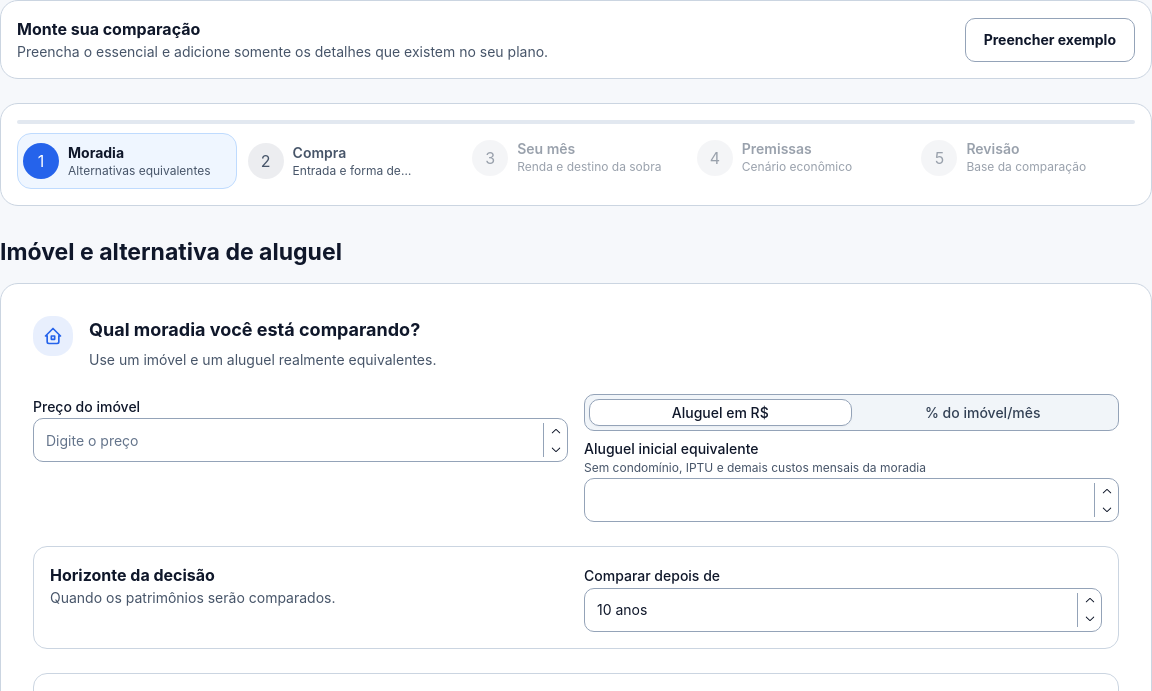
ComparisonJourney › asks before replacing a draft with the example
Type "450000" into the field labelled "Preço do imóvel" at x=300, y=440, box [33,418,568,462]
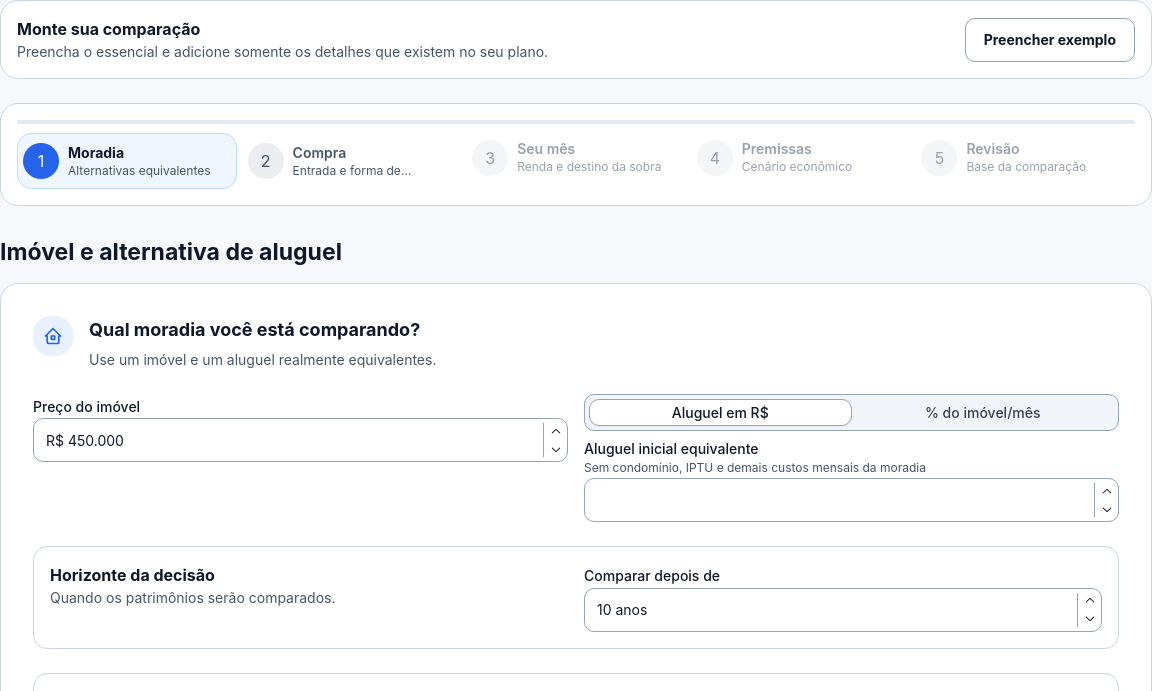
Click the button "Preencher exemplo" at x=1050, y=40, box [965,18,1135,62]
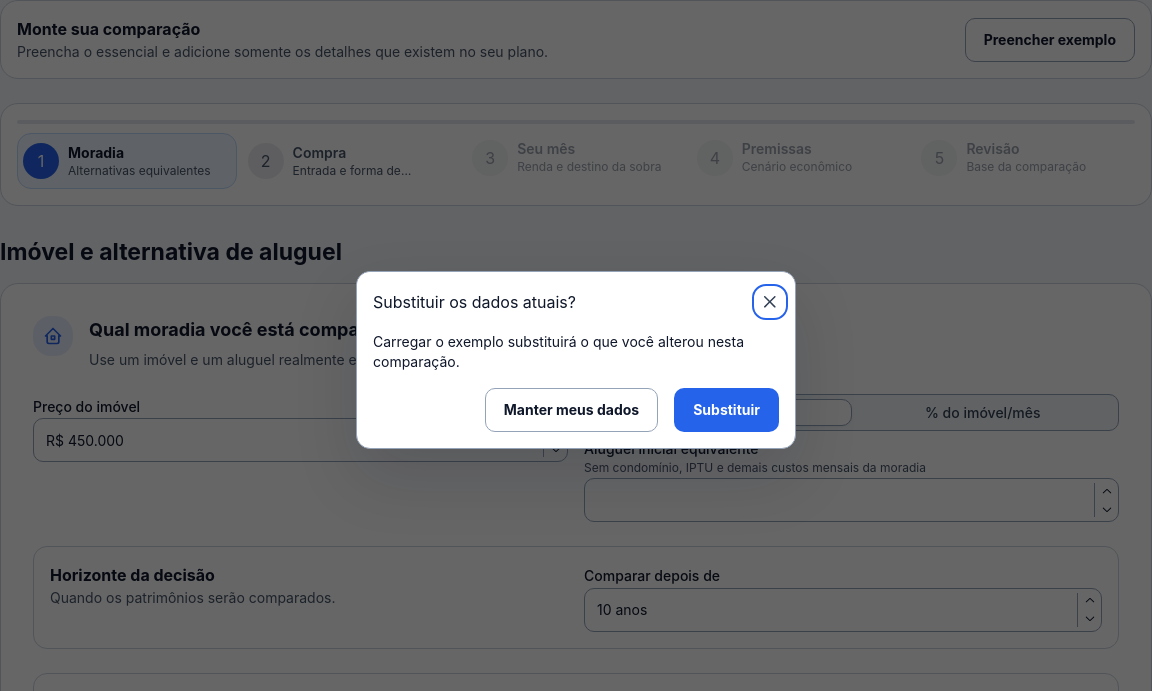
Result: the heading "Substituir os dados atuais?" is shown at [373,294,576,310]
Click the button "Manter meus dados" at x=572, y=410, box [485,388,658,432]
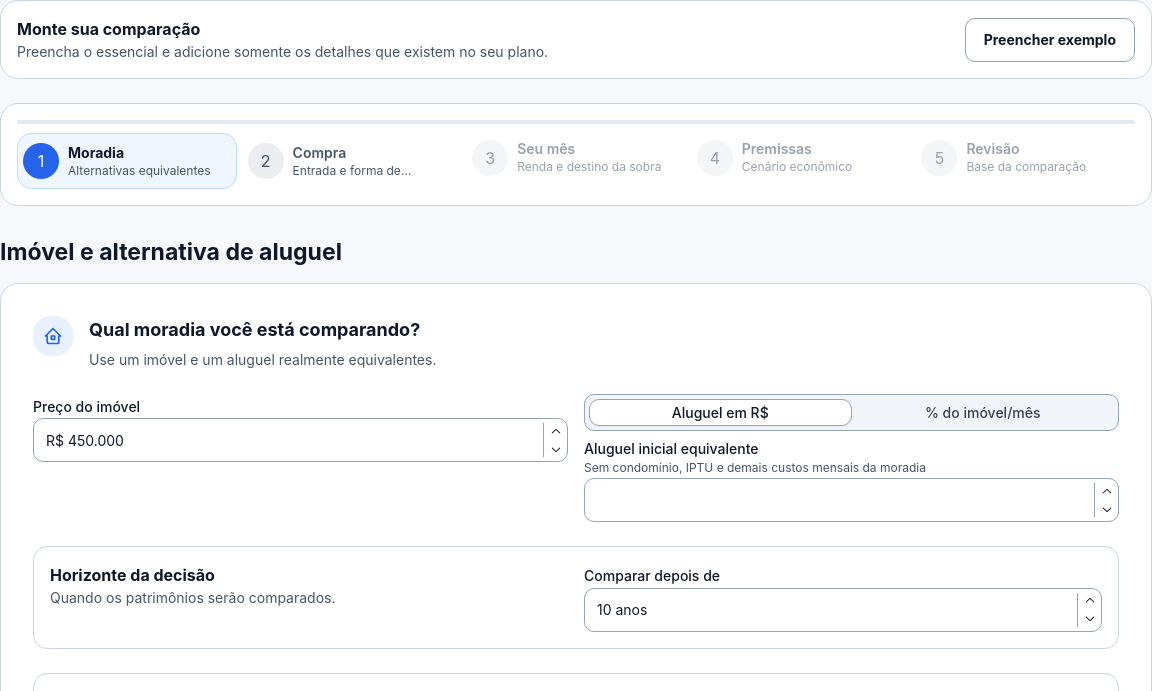
Result: the heading "Substituir os dados atuais?" is gone
